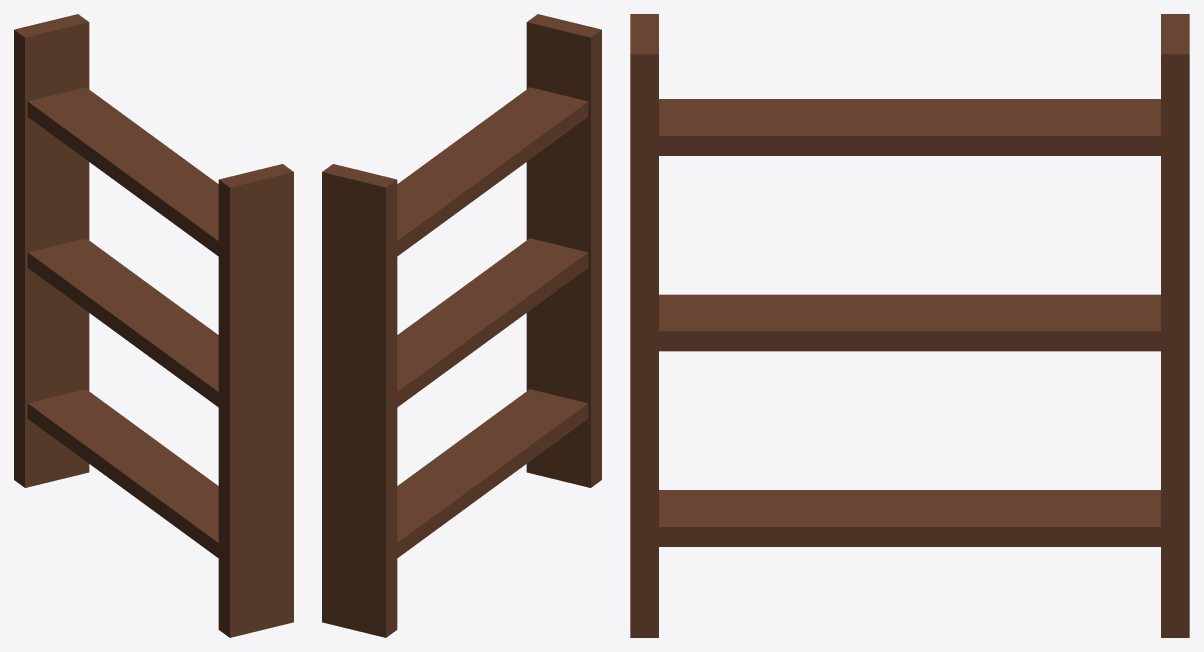
Rendered from Shelf_01.glb.
The picture shows the model from 3 angles, left to right: view 1: azimuth 30°, elevation 25°; view 2: azimuth 150°, elevation 25°; view 3: azimuth 270°, elevation 25°; orthographic projection. The views are drawn at different scales.
Visible parts, largest first — view 1: Shelf_01; view 2: Shelf_01; view 3: Shelf_01.
Boxes of the visible parts, x1,y1,x2,y2 form: Shelf_01: [14, 14, 293, 637]; Shelf_01: [322, 14, 601, 637]; Shelf_01: [630, 14, 1189, 637].
Bounding box in the file's own units: 0.6182 × 4.16 × 3.61.
